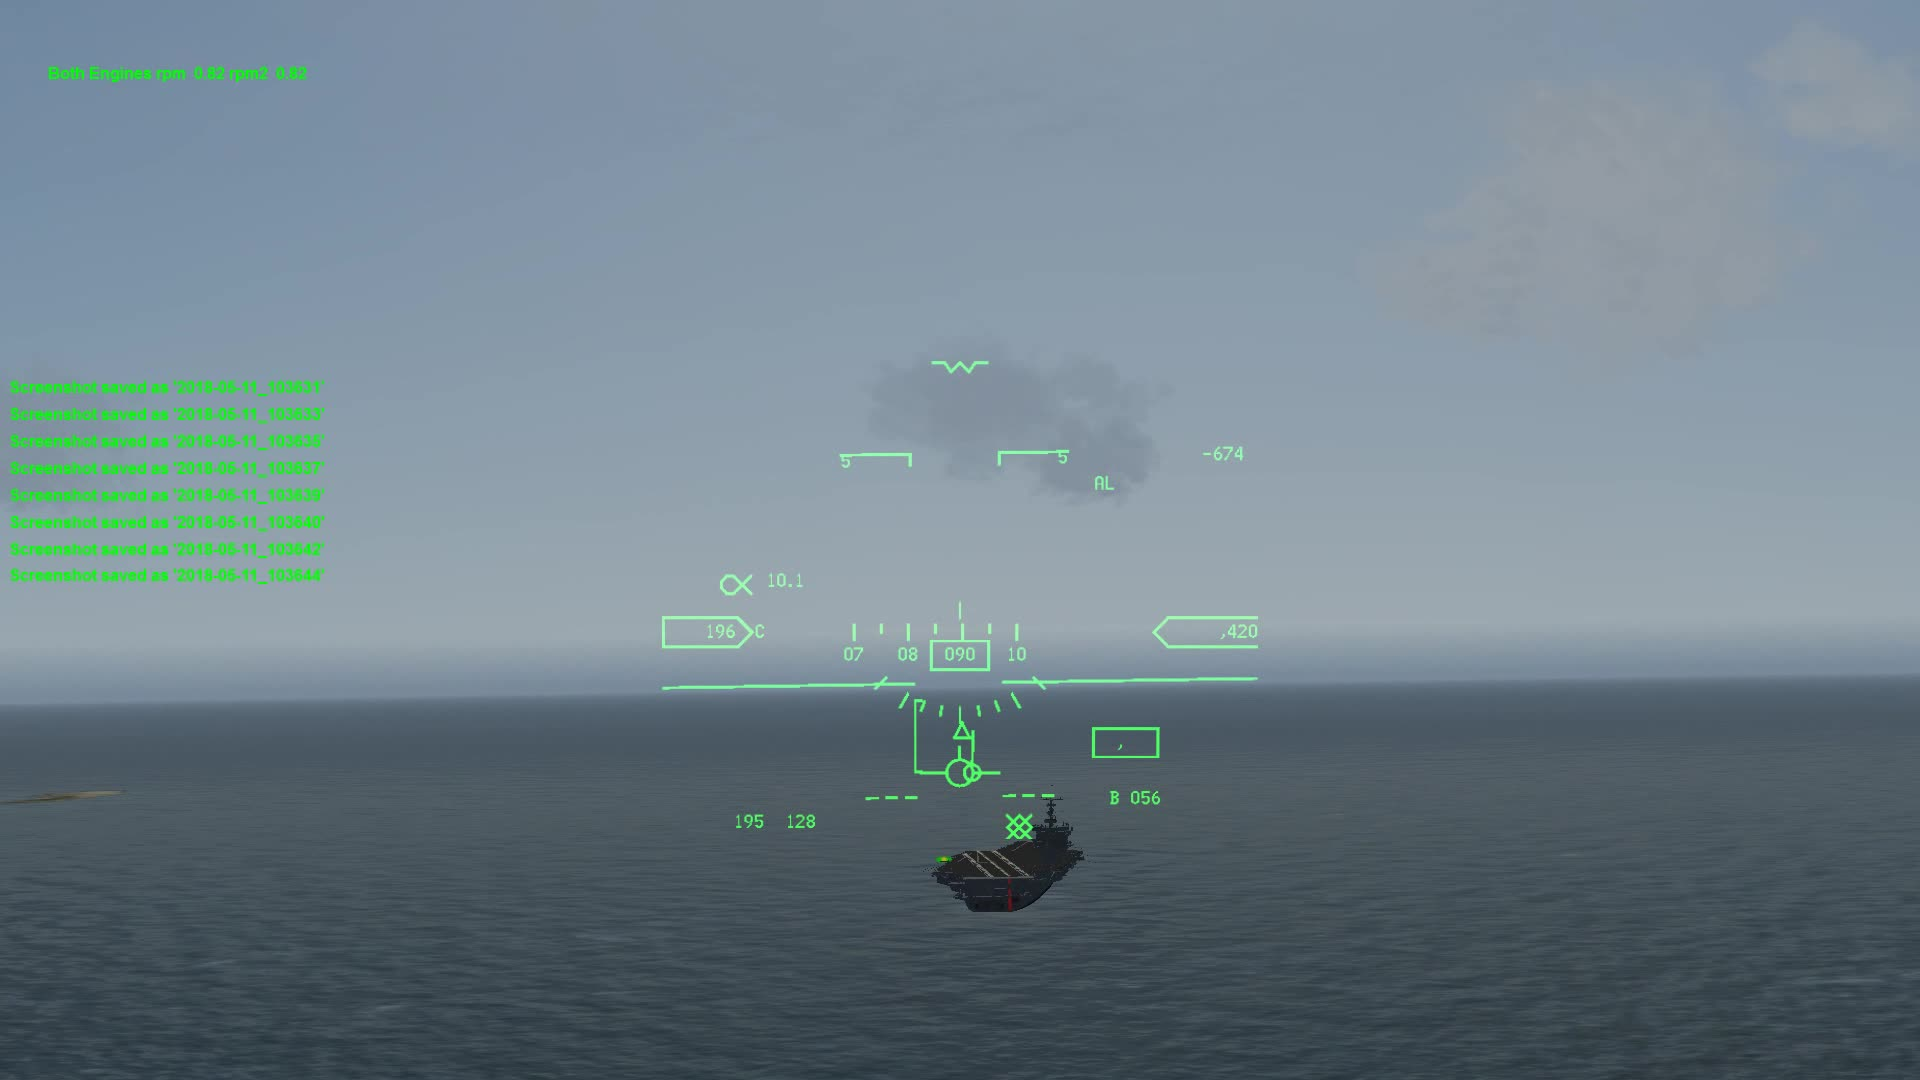speed vector: (924, 738, 1004, 798)
